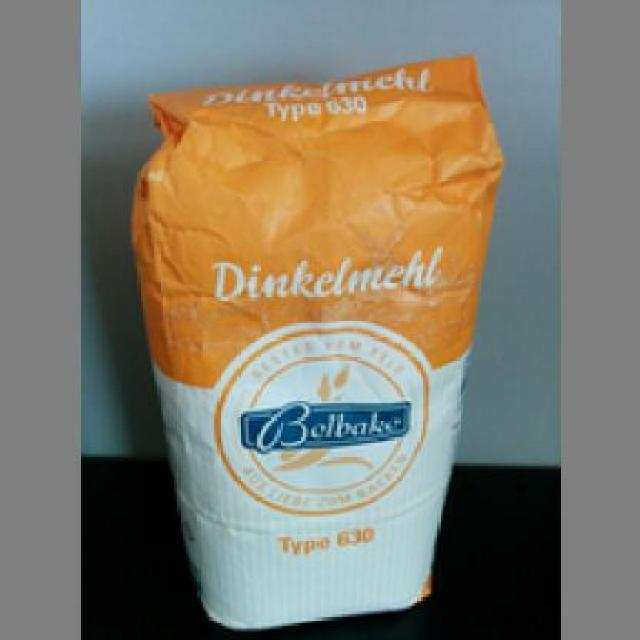Flour: (123, 49, 503, 632)
